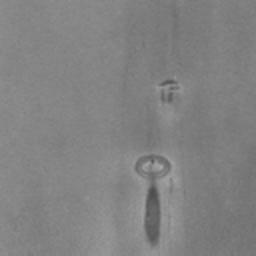Slag inclusion: (134, 154, 170, 242), (157, 78, 178, 102)
